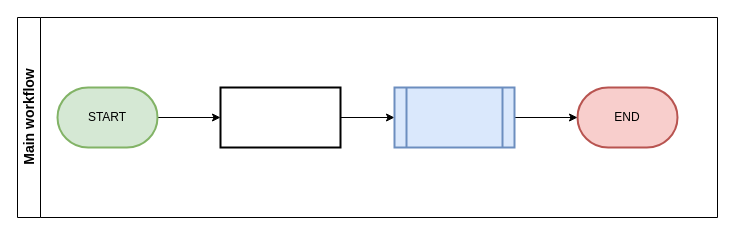
The diagram is 735 pixels wide and 235 high, and some of its shapes have lost their labels. Each missing label, with the centre of its shape:
"Loop over cities" belongs at point (454, 117).
"Validate Context" belongs at point (280, 117).
